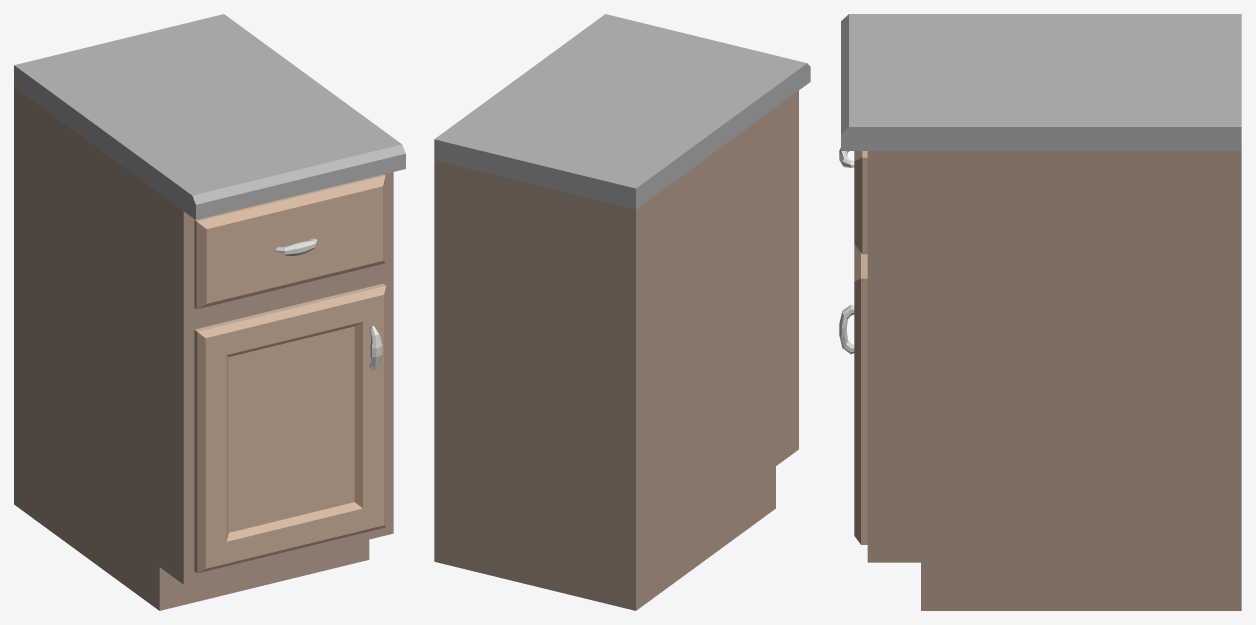
File: Structure_Bathroom_Cabinet_Half.fbx
3 views of the same model, side by side, from view 1: azimuth 30°, elevation 25°; view 2: azimuth 150°, elevation 25°; view 3: azimuth 270°, elevation 25° (orthographic). The views are drawn at different scales.
Visible parts, largest first — view 1: object2.037, object4.019, object1.063, object5.014; view 2: object2.037, object1.063; view 3: object2.037, object1.063, object4.019, object5.014.
Part boxes in pixels (bbox=[...]): object2.037: bbox=[14, 87, 393, 610]; object4.019: bbox=[194, 283, 386, 573]; object1.063: bbox=[14, 14, 405, 219]; object5.014: bbox=[194, 174, 385, 309]; object2.037: bbox=[434, 90, 798, 610]; object1.063: bbox=[434, 14, 810, 209]; object2.037: bbox=[867, 151, 1241, 610]; object1.063: bbox=[841, 14, 1241, 150]; object4.019: bbox=[854, 244, 867, 544]; object5.014: bbox=[839, 148, 867, 254].
Size of the model in its own units: 50 by 100 by 75.31.
